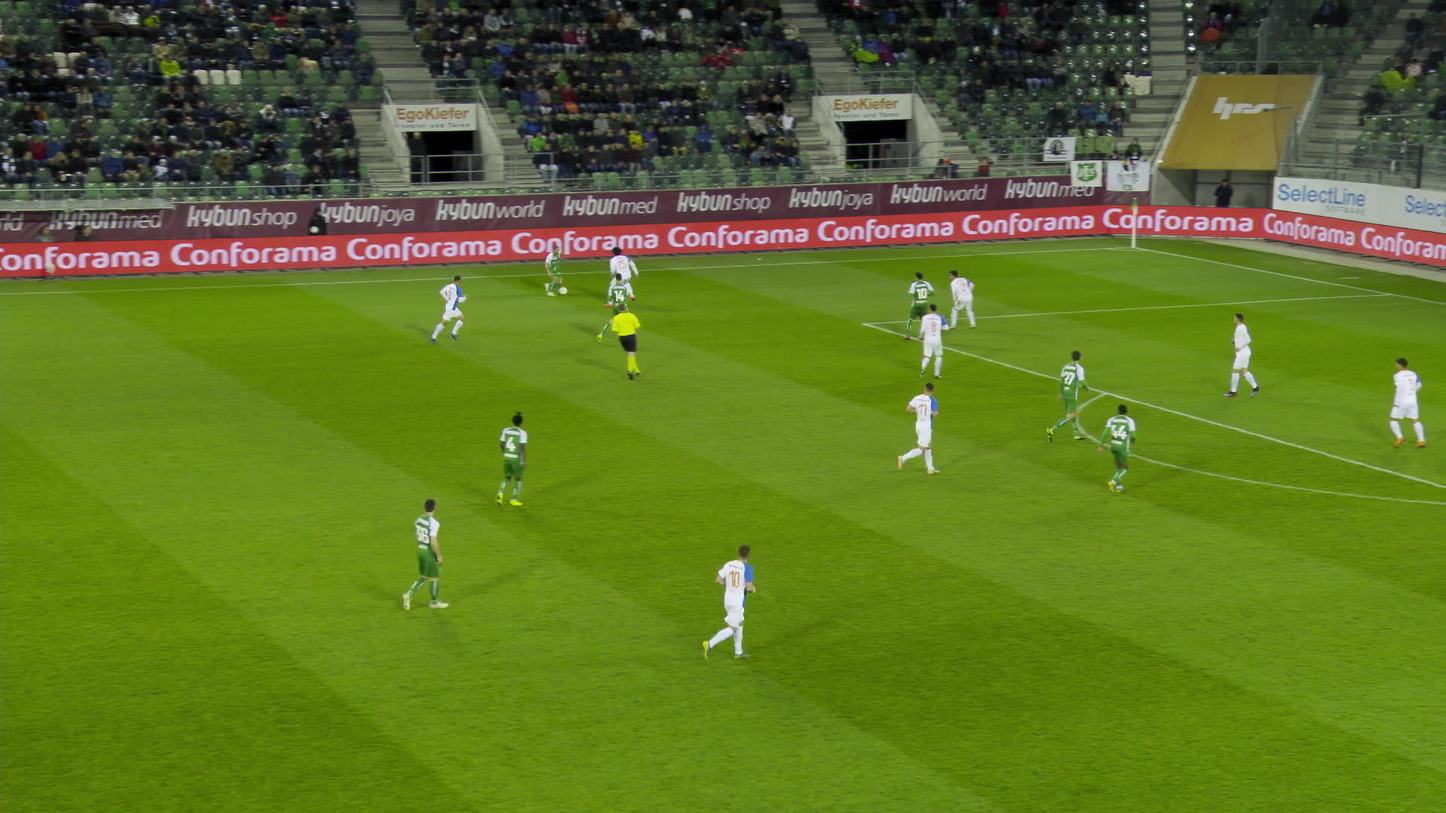ball: (558, 287, 566, 295)
player: (698, 544, 756, 663), (402, 498, 456, 611), (1045, 347, 1092, 442), (893, 381, 941, 472), (1097, 402, 1137, 495), (492, 412, 531, 507), (1387, 357, 1427, 448), (1222, 313, 1259, 397), (595, 272, 637, 345), (429, 275, 469, 344), (917, 303, 947, 378), (602, 247, 639, 307), (904, 272, 935, 341), (945, 269, 976, 330), (543, 244, 566, 297)
referee: (611, 303, 642, 381)
